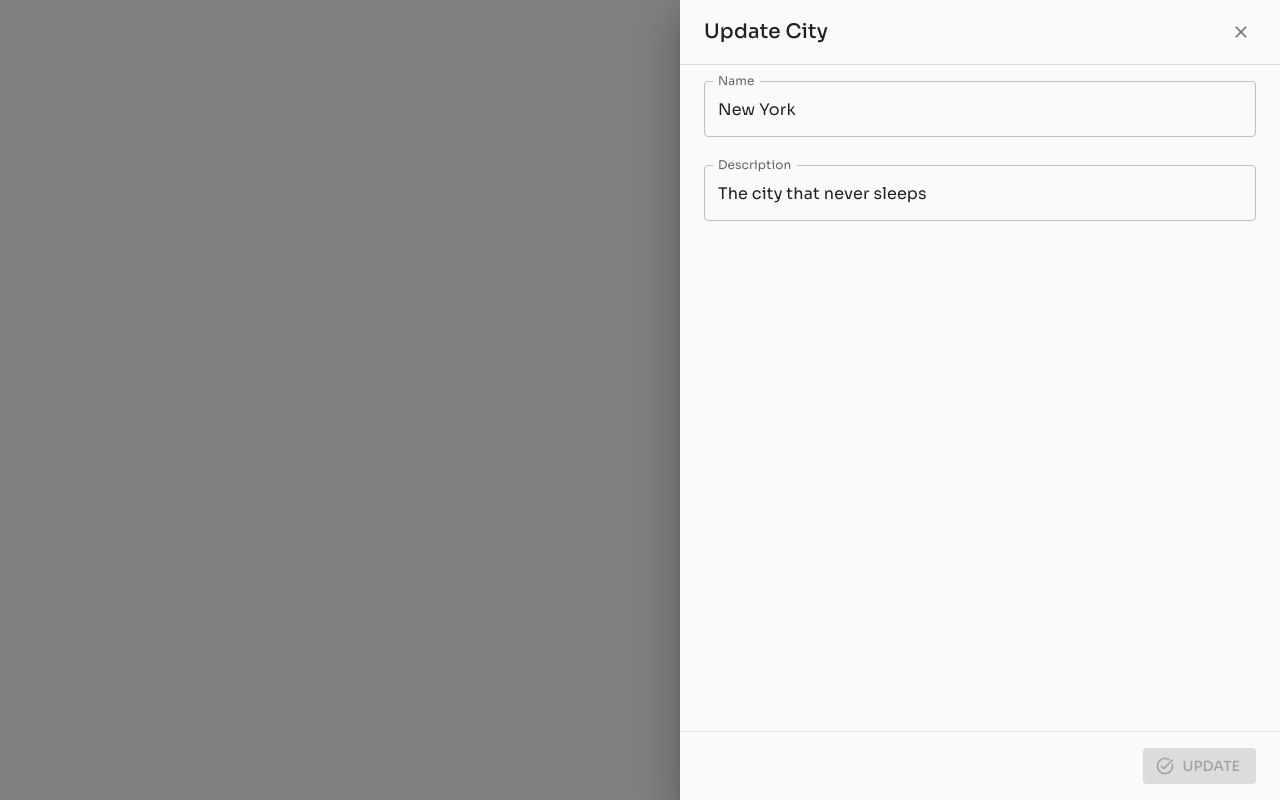
CitiesManagement/UpdateCityDialog › should enable the update button when the form data changes
Replace the text in the field labelled "Name" with "Nablus" at (980, 109), box [704,81,1256,137]
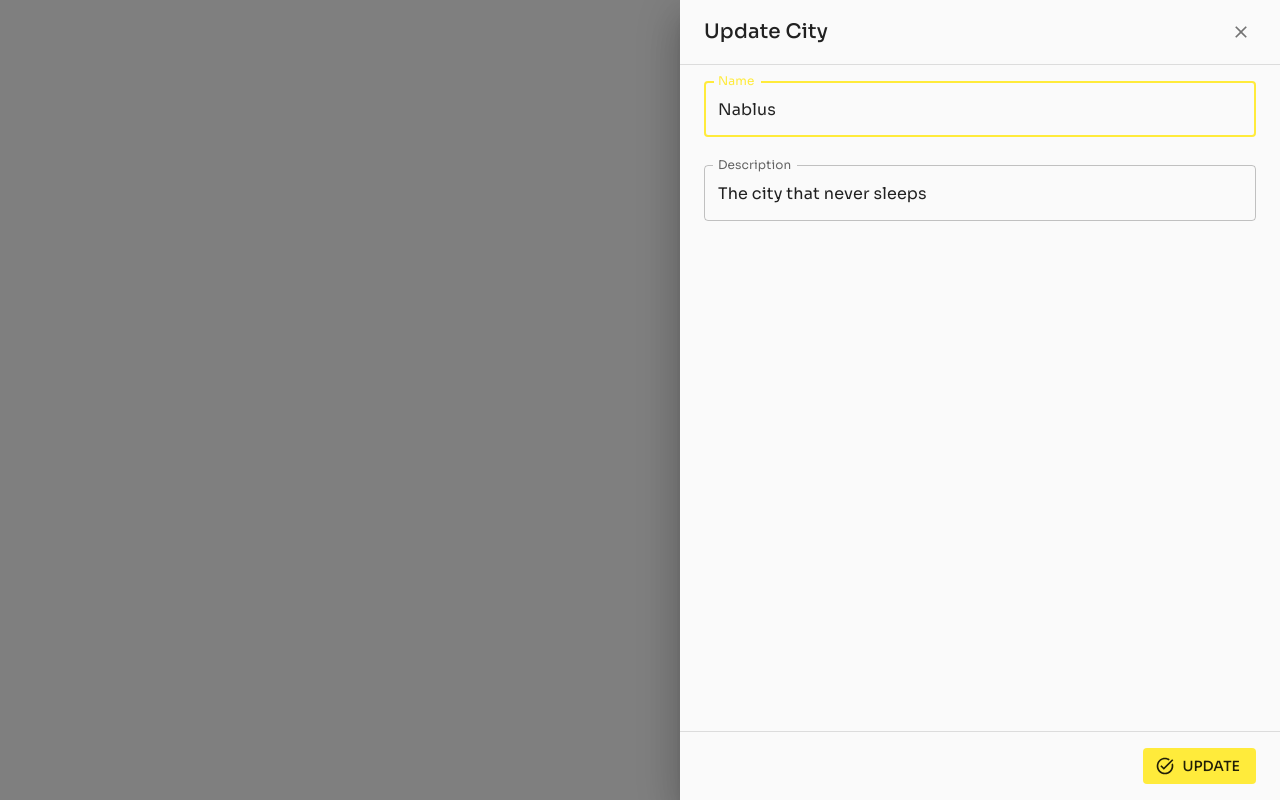
Now the button "Update" is enabled, box [1142,748,1256,784]
